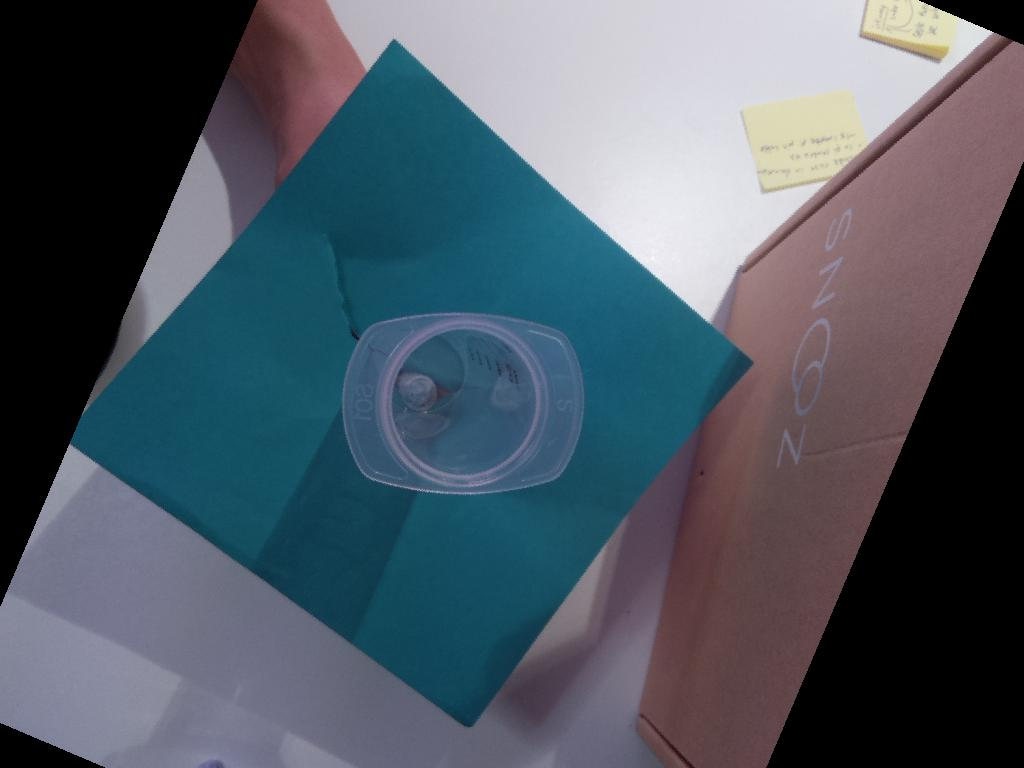clean: (342, 311, 586, 495)
